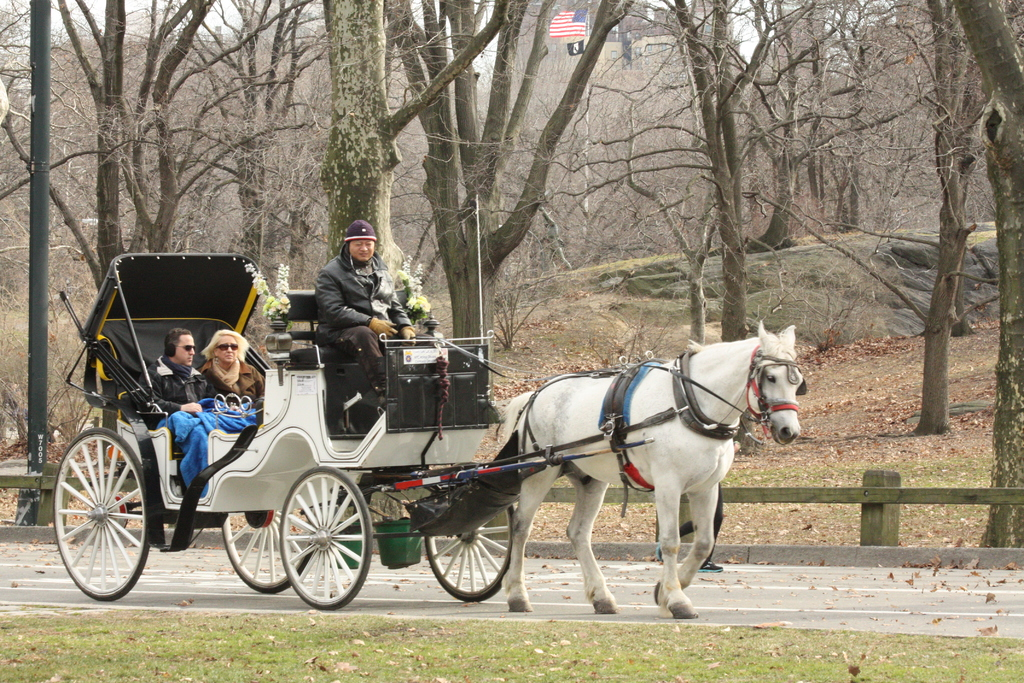horse: (496, 320, 803, 618)
